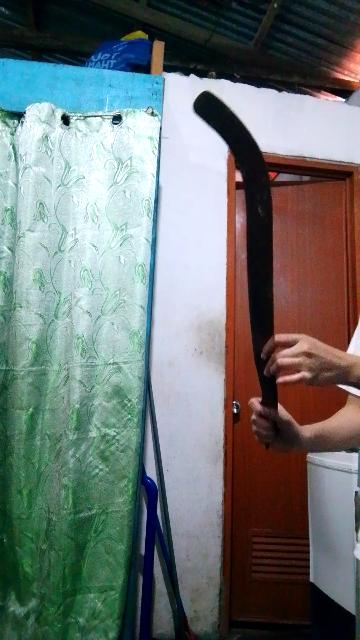long knife: (178, 86, 308, 458)
